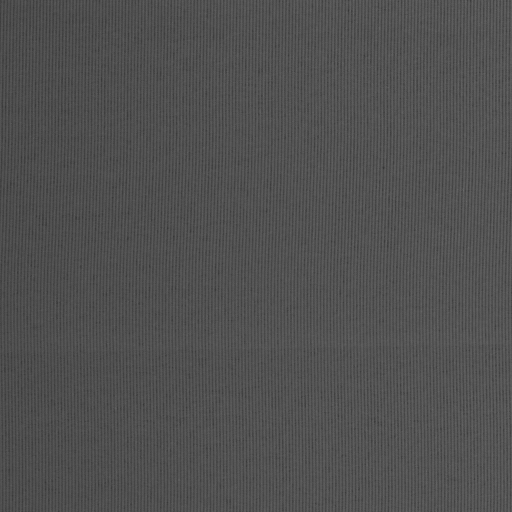defect: (1, 338, 512, 359)
